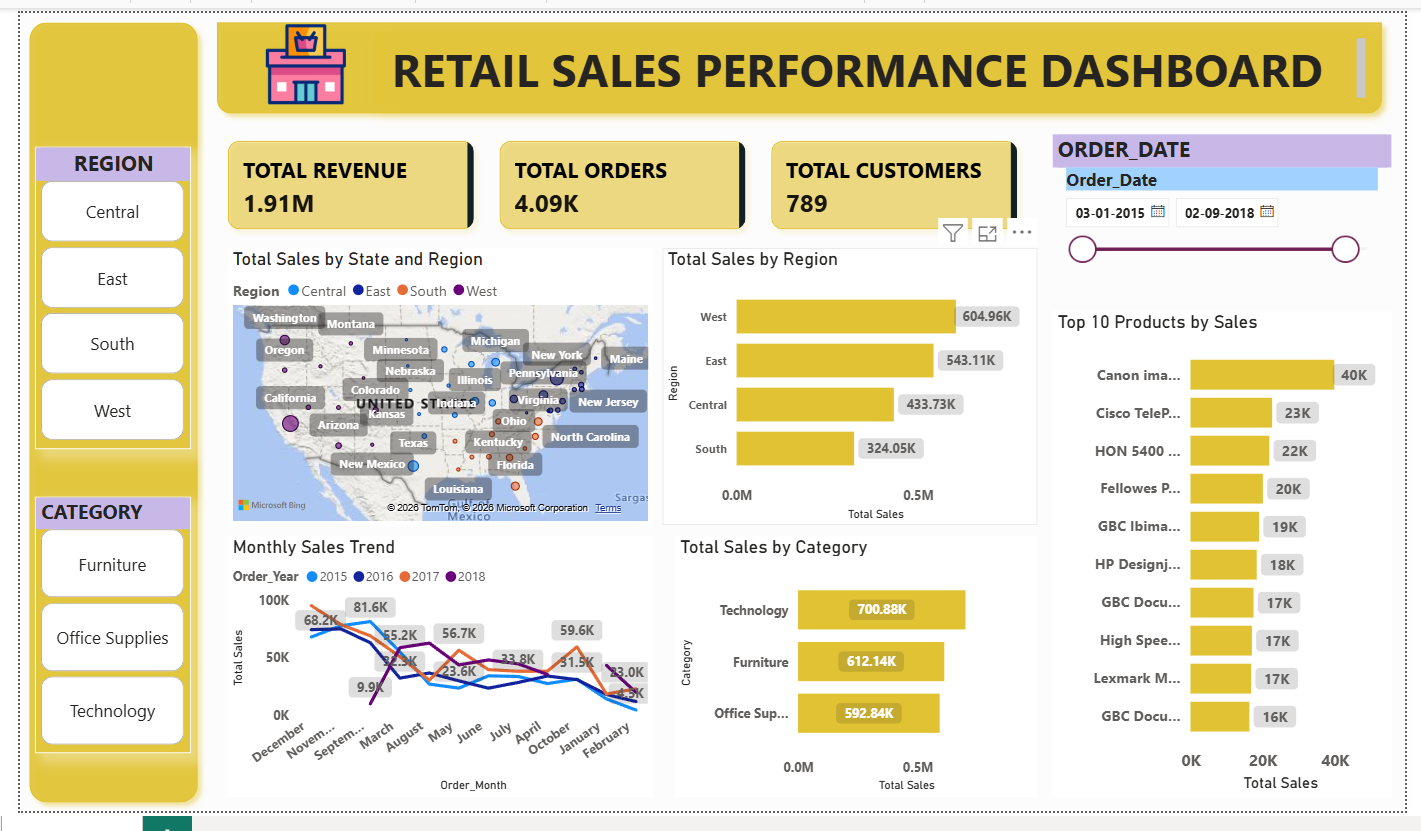

What the dashboard file says about the page in this screenshot:
{"tool":"powerbi","page":{"name":"DASHBOARD","canvas":[1300,750],"ordinal":0},"visuals":[{"type":"shape","box":[0,0,175.8,750.3],"z":0},{"type":"cardVisual","fields":{"Data":["superstore_sales.Total Sales","superstore_sales.Total Orders","superstore_sales.Total Customers"]},"box":[178.3,103.2,777,117.2],"z":1000},{"type":"shape","box":[175.8,0,1112,103.2],"z":2000},{"type":"clusteredBarChart","fields":{"Category":["superstore_sales.Category"],"Y":["superstore_sales.Total Sales"]},"box":[615.2,490.4,340.1,245.8],"z":3000},{"type":"barChart","title":"Top 10 Products by Sales","fields":{"Category":["superstore_sales.Product_Name"],"Y":["superstore_sales.Total Sales"]},"box":[969.3,279,318.4,457.3],"z":4000},{"type":"barChart","fields":{"Y":["superstore_sales.Total Sales"],"Category":["superstore_sales.Region"]},"box":[603.8,220.4,351.6,261.1],"z":5000},{"type":"lineChart","title":"Monthly Sales Trend","fields":{"Category":["superstore_sales.Order_Month"],"Series":["superstore_sales.Order_Year"],"Y":["superstore_sales.Total Sales"]},"box":[194.9,490.4,400,245.8],"z":6000},{"type":"map","fields":{"Category":["superstore_sales.State"],"Size":["superstore_sales.Total Sales"],"Series":["superstore_sales.Region"]},"box":[194.9,220.4,400,261.1],"z":7000},{"type":"advancedSlicerVisual","title":"REGION","fields":{"Values":["superstore_sales.Region"]},"box":[14,126.1,146.5,284.1],"z":8000},{"type":"textbox","box":[332.5,19.1,936.2,66.2],"z":9000},{"type":"image","box":[194.9,10.2,146.5,75.2],"z":10000},{"type":"advancedSlicerVisual","title":"CATEGORY","fields":{"Values":["superstore_sales.Category"]},"box":[14,454.7,146.5,240.7],"z":11000},{"type":"slicer","title":"ORDER_DATE","fields":{"Values":["superstore_sales.Order_Date"]},"box":[969.3,113.4,318.4,180.9],"z":12000}]}

Visuals, with their boxes in screenshot pixels (x1, y1, x2, y2), scaled from the page's 1300x750 canvas onto the 1421x831 screenshot:
shape: <bbox>0, 0, 192, 830</bbox>
cardVisual - superstore_sales.Total Sales x superstore_sales.Total Orders: <bbox>195, 114, 1044, 244</bbox>
shape: <bbox>192, 0, 1408, 114</bbox>
clusteredBarChart - superstore_sales.Category x superstore_sales.Total Sales: <bbox>672, 543, 1044, 816</bbox>
"Top 10 Products by Sales" barChart: <bbox>1060, 309, 1408, 816</bbox>
barChart - superstore_sales.Total Sales x superstore_sales.Region: <bbox>660, 244, 1044, 534</bbox>
"Monthly Sales Trend" lineChart: <bbox>213, 543, 650, 816</bbox>
map - superstore_sales.State x superstore_sales.Total Sales: <bbox>213, 244, 650, 534</bbox>
"REGION" advancedSlicerVisual: <bbox>15, 140, 175, 455</bbox>
textbox: <bbox>363, 21, 1387, 95</bbox>
image: <bbox>213, 11, 373, 95</bbox>
"CATEGORY" advancedSlicerVisual: <bbox>15, 504, 175, 771</bbox>
"ORDER_DATE" slicer: <bbox>1060, 126, 1408, 326</bbox>
